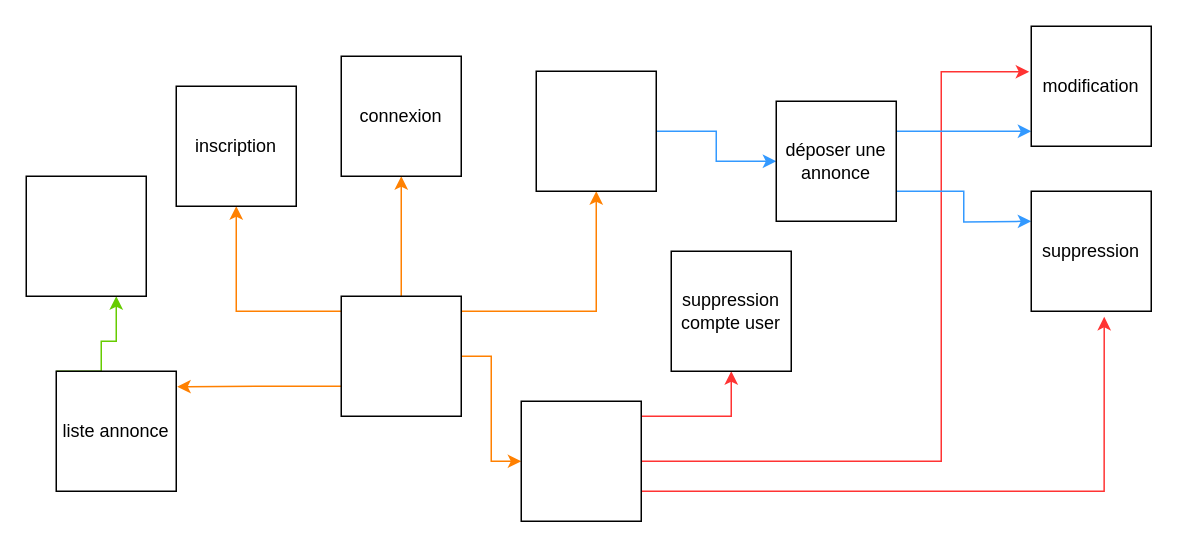
Some shapes in this 1178 by 548 pixel diagram are drawn without their labels. Here are the shapes that lost their labels. From the top down, the centre of each, then its label:
At (x=595, y=130): "compte user".
At (x=85, y=235): "afficher annonce".
At (x=400, y=355): "Accueil".
At (x=580, y=460): "compte admin".
